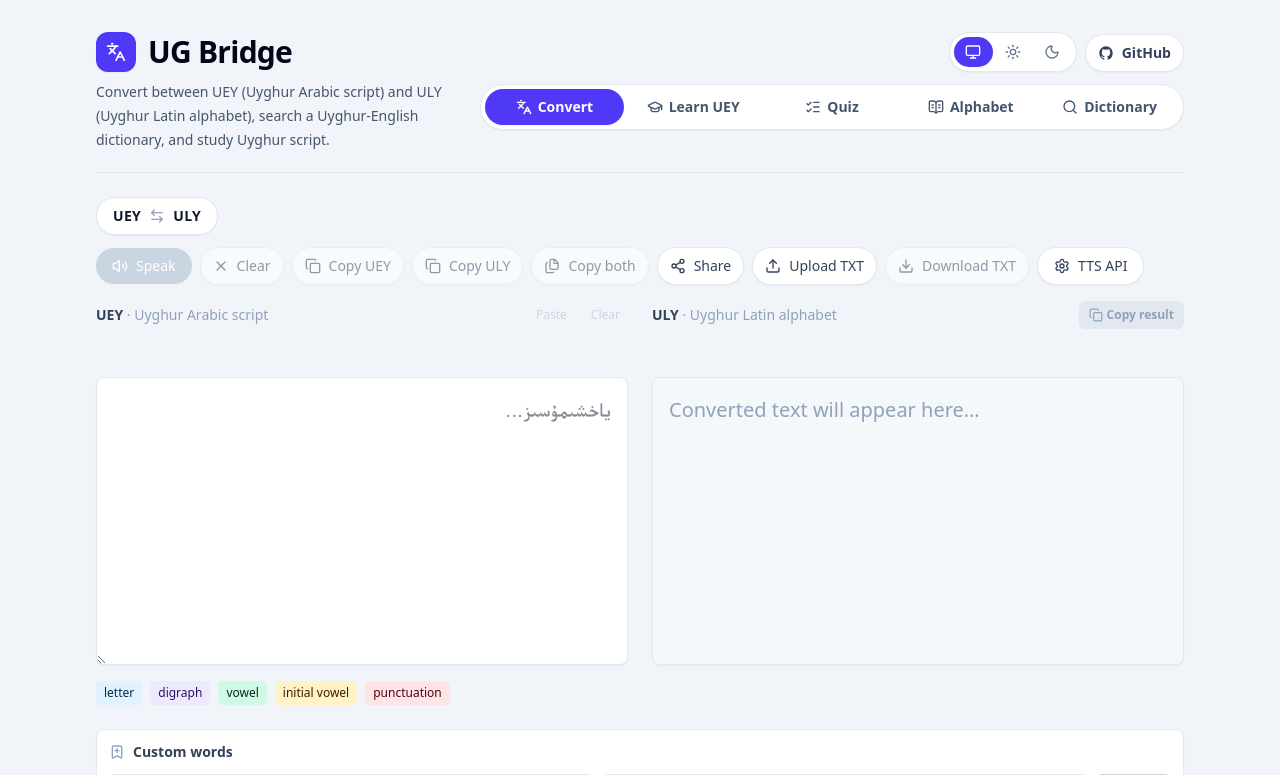
Test case: App conversion workflow › uses the current output as the new input when swapping direction
This screenshot has width=1280, height=775.
In the text box labelled "UEY · Uyghur Arabic script": (362, 521) left=96, top=377, right=628, bottom=665, type "سالام"
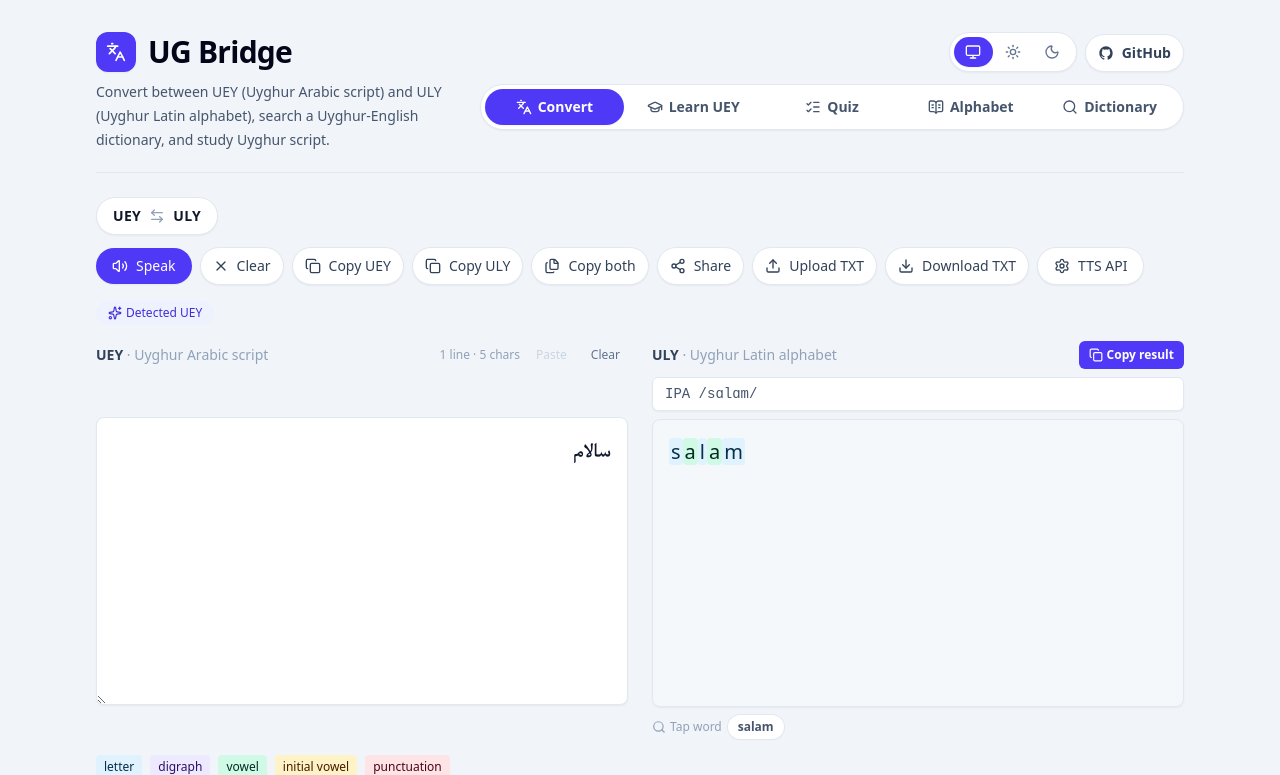
Click the button with aria-label "Currently UEY to ULY": (157, 216) left=96, top=197, right=218, bottom=235
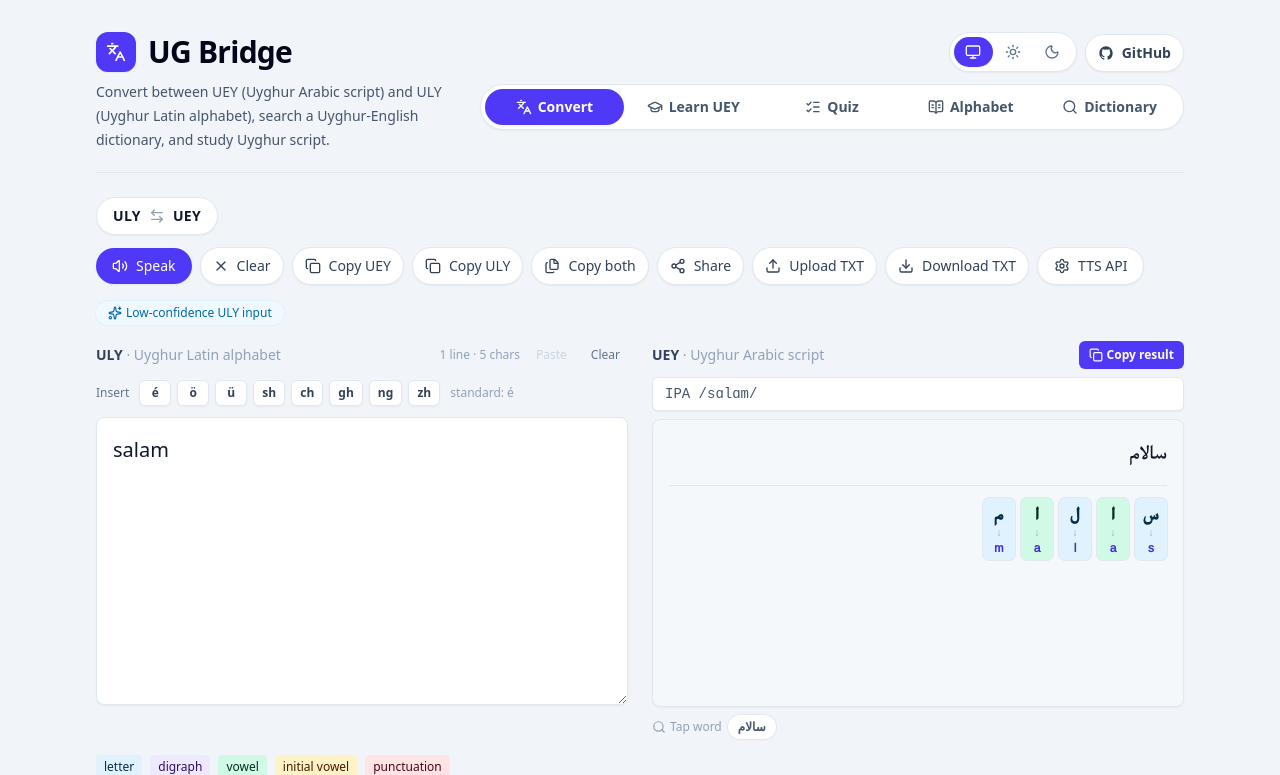
Expected: the text box labelled "ULY · Uyghur Latin alphabet" holds "salam", left=96, top=417, right=628, bottom=705
Expected: the text "سالام" is shown, left=1130, top=441, right=1167, bottom=463
Expected: the button with aria-label "Currently ULY to UEY" is shown, left=96, top=197, right=218, bottom=235
